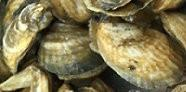3: (90, 79, 112, 92)
Oyster-Closed: (161, 8, 186, 54), (97, 0, 131, 10), (172, 85, 186, 92)
Oyster-Open: (96, 14, 186, 89), (38, 20, 108, 80), (2, 4, 52, 72), (47, 0, 93, 24), (86, 0, 154, 16), (151, 0, 183, 13), (77, 87, 98, 92)
